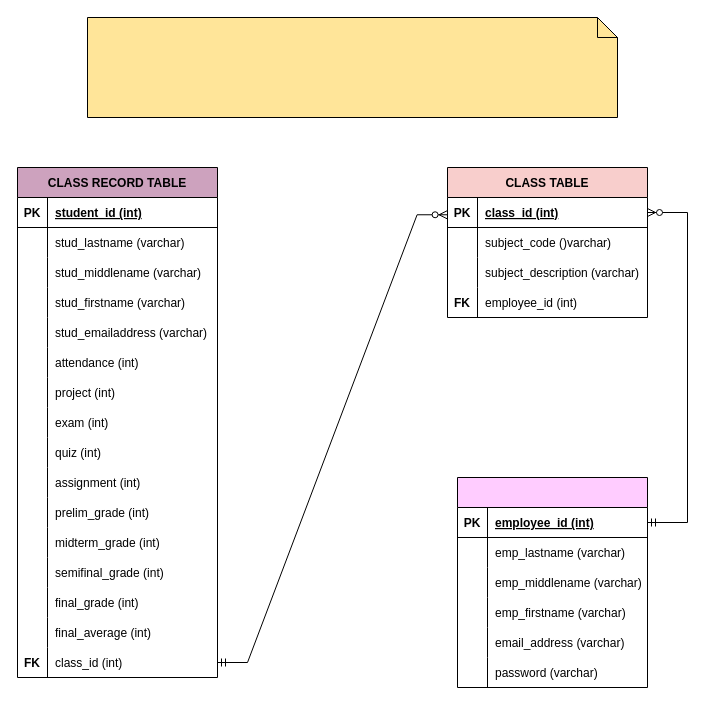
This 714x705 diagram has some shape labels left out. The shapes that lost their labels are listed below. From the top down, each one's box as (x1, y1, x2, y2) in pixels, then its label:
(86, 16, 618, 118): CCS CLASS RECORD MANAGEMENT SYSTEM
(456, 476, 648, 688): INSTRUCTOR TABLE
